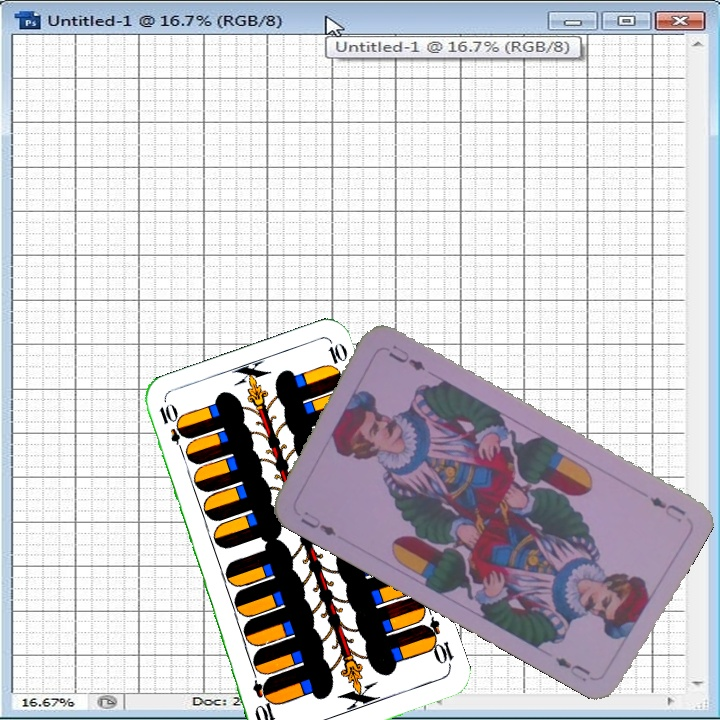E10: (418, 614, 457, 671), (155, 400, 189, 458)
EU: (645, 492, 688, 525), (296, 507, 339, 539)
